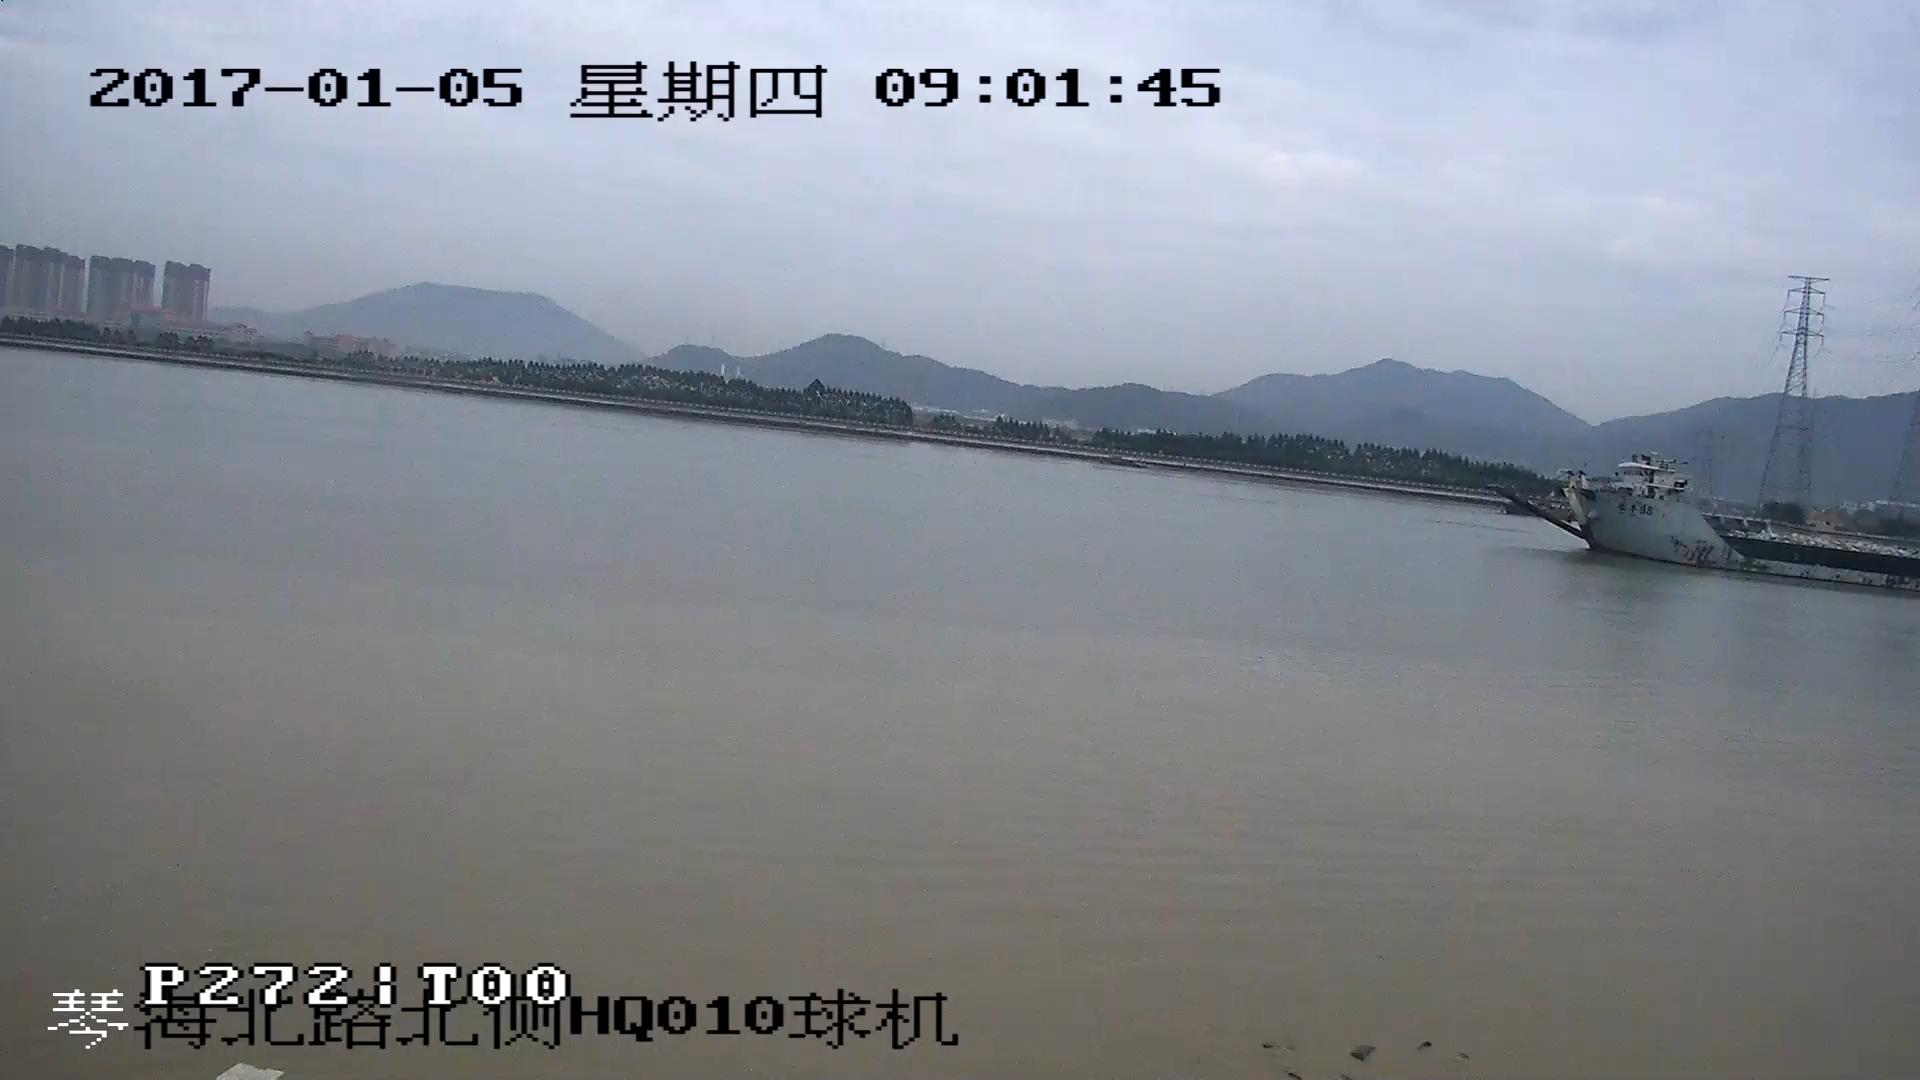bulk cargo carrier: (1521, 460, 1920, 594)
